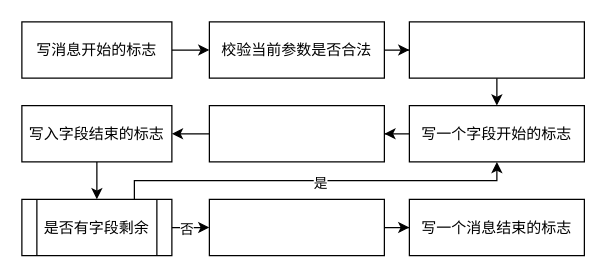
The diagram is 606 pixels wide and 278 high, and some of its shapes have lost their labels. Each missing label, with the centre of its shape:
"写一个结构体开始的标志" belongs at (x=496, y=49).
"写一个结构体结束的标志" belongs at (x=296, y=227).
"写入字段的内容" belongs at (x=296, y=133).
